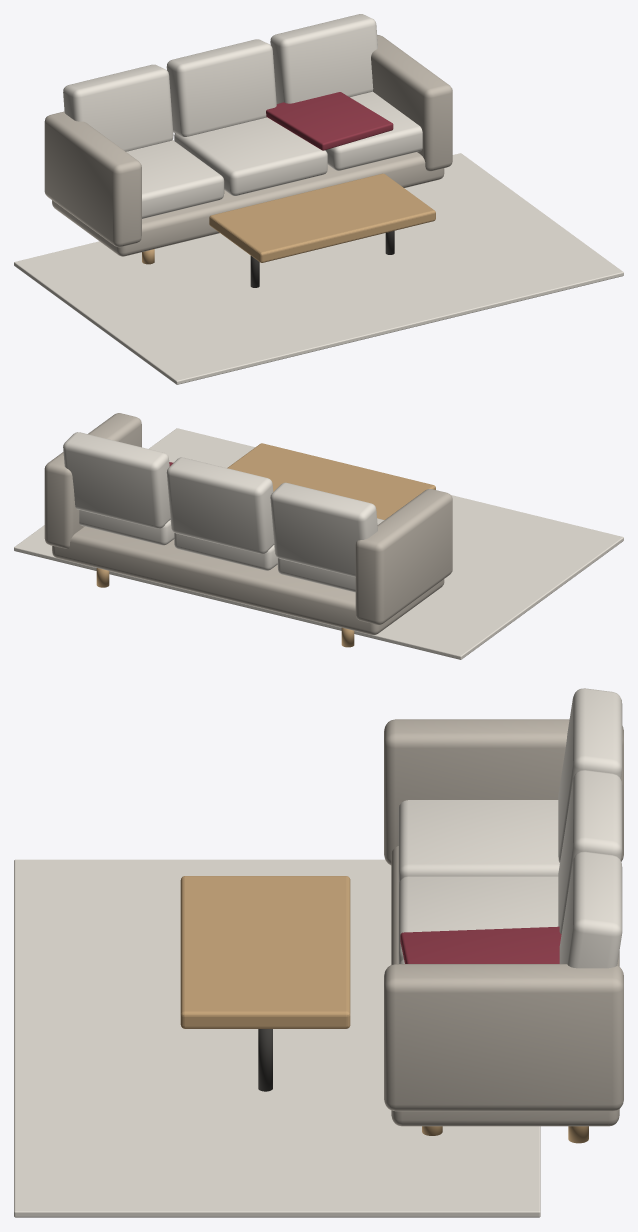
The model's file is sofa.glb.
3 renders of one model, top to bottom at view 1: azimuth 30°, elevation 25°; view 2: azimuth 150°, elevation 25°; view 3: azimuth 270°, elevation 25°, orthographic. The views are drawn at different scales.
Parts seen in each view (by area): view 1: ACCENT wool rug, ACCENT coffee top, CANONICAL arm, CANONICAL back 2, CANONICAL back 3, CANONICAL seat 2, CANONICAL frame, CANONICAL back 1, CANONICAL arm.001, CANONICAL seat 1, ACCENT throw, CANONICAL seat 3; view 2: ACCENT wool rug, CANONICAL frame, CANONICAL arm, CANONICAL back 2, CANONICAL back 3, CANONICAL back 1, ACCENT coffee top, CANONICAL arm.001, CANONICAL seat 2, CANONICAL seat 3, CANONICAL seat 1; view 3: ACCENT wool rug, CANONICAL arm.001, ACCENT coffee top, CANONICAL arm, CANONICAL seat 1, CANONICAL seat 2, CANONICAL back 3, ACCENT throw, CANONICAL back 1, CANONICAL back 2, CANONICAL frame, ACCENT coffee leg.001.
Boxes of the visible parts, x1,y1,x2,y2 form: ACCENT wool rug: (14,153,623,384); ACCENT coffee top: (209,173,435,262); CANONICAL arm: (44,111,141,247); CANONICAL back 2: (166,39,276,136); CANONICAL back 3: (270,14,377,103); CANONICAL seat 2: (174,117,327,195); CANONICAL frame: (52,152,444,256); CANONICAL back 1: (63,64,173,151); CANONICAL arm.001: (371,35,452,171); CANONICAL seat 1: (126,140,224,218); ACCENT throw: (266,92,393,150); CANONICAL seat 3: (325,91,422,170); ACCENT wool rug: (14,428,623,659); CANONICAL frame: (52,526,444,634); CANONICAL arm: (355,489,452,624); CANONICAL back 2: (166,457,274,553); CANONICAL back 3: (63,432,170,528); CANONICAL back 1: (270,482,377,577); ACCENT coffee top: (227,443,435,519); CANONICAL arm.001: (44,413,141,548); CANONICAL seat 2: (174,533,277,570); CANONICAL seat 3: (79,510,174,545); CANONICAL seat 1: (277,518,384,592); ACCENT wool rug: (14,859,540,1217); CANONICAL arm.001: (384,964,623,1111); ACCENT coffee top: (180,876,350,1028); CANONICAL arm: (384,719,623,865); CANONICAL seat 1: (398,800,559,884); CANONICAL seat 2: (398,876,558,963); CANONICAL back 3: (559,851,622,968); ACCENT throw: (400,926,561,963); CANONICAL back 1: (558,688,622,862); CANONICAL back 2: (558,770,622,933); CANONICAL frame: (391,846,619,1126); ACCENT coffee leg.001: (258,1029,272,1091).
Size of the model in its own units: 2.85 by 0.8995 by 2.08.
